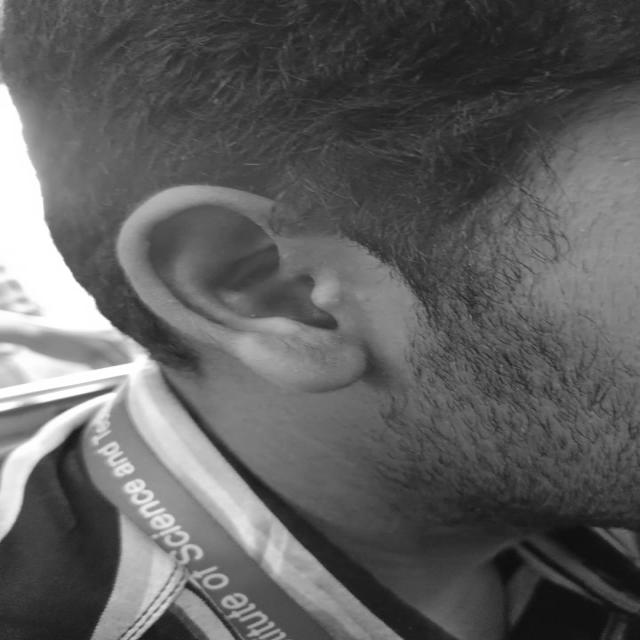ear: (117, 186, 366, 392)
